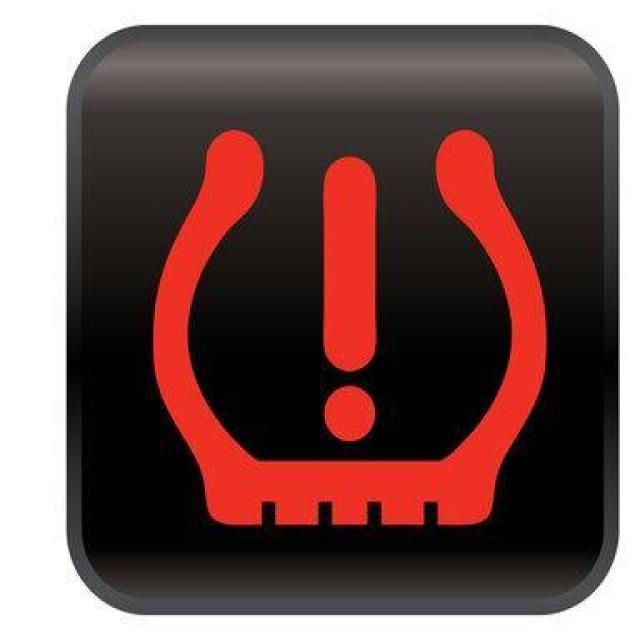kontrolka: (127, 117, 572, 538)
